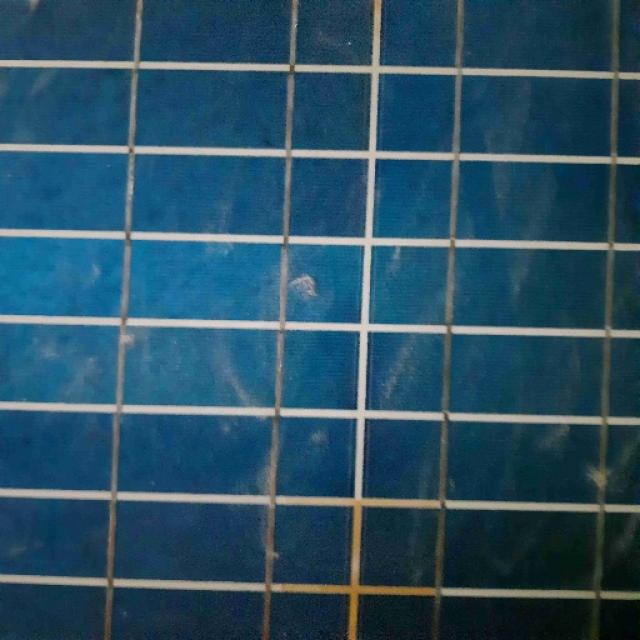Dirty: (10, 61, 640, 640)
